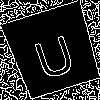U: (28, 26, 79, 81)
